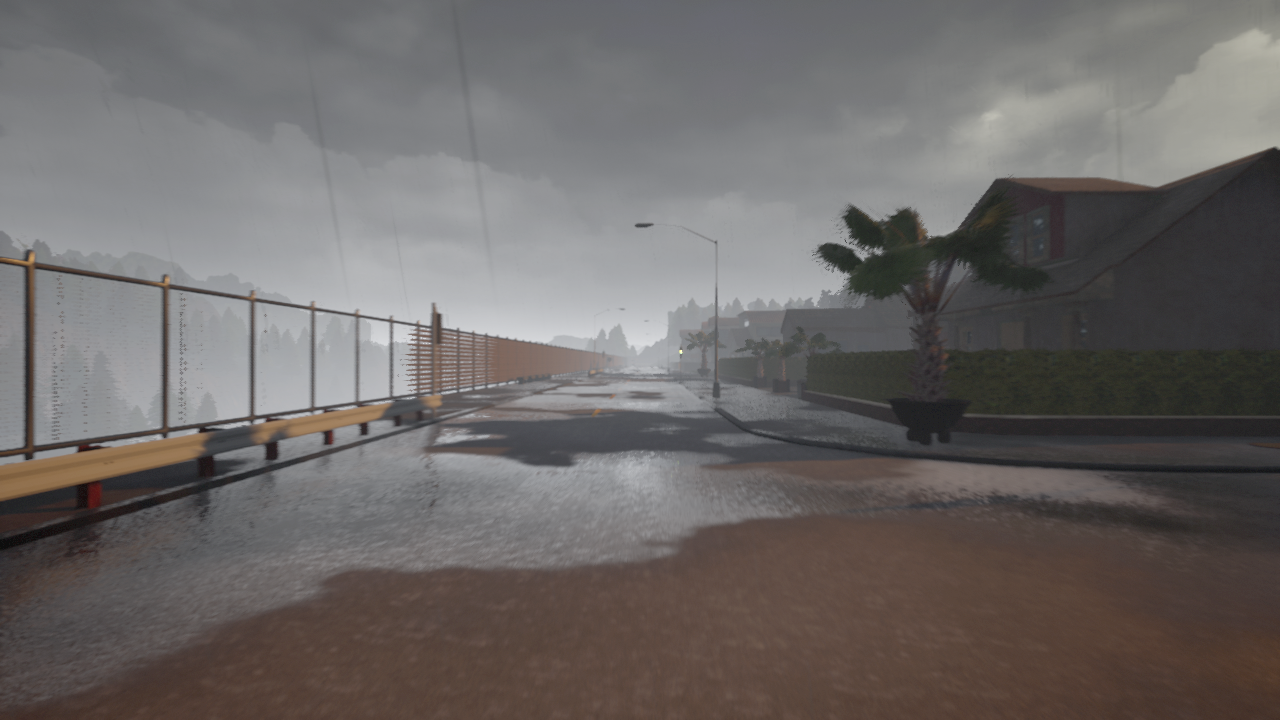yellow: (678, 346, 684, 358)
